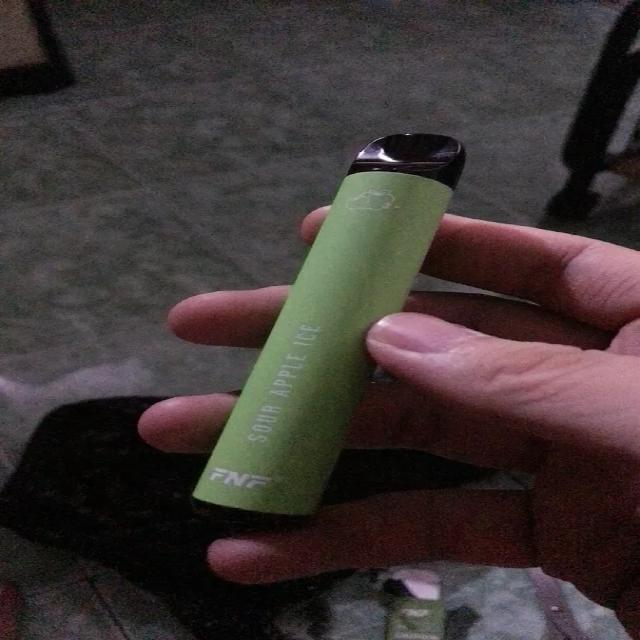Hazard: (184, 127, 466, 534)
